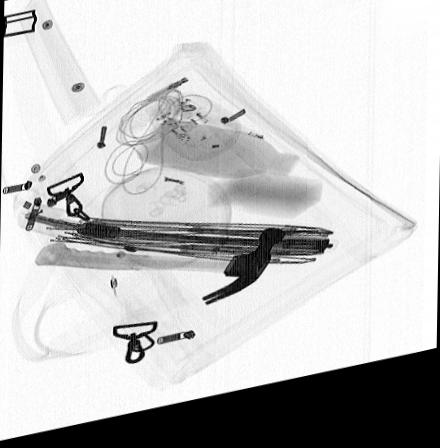Hammer: (33, 238, 286, 314)
